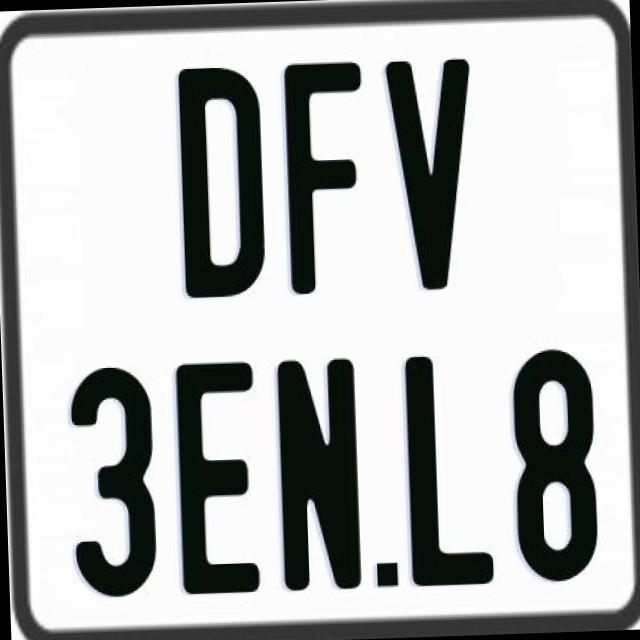3: (66, 366, 160, 598)
8: (510, 342, 601, 578)
D: (174, 65, 268, 308)
E: (174, 360, 260, 600)
F: (282, 59, 372, 297)
L: (400, 352, 492, 589)
N: (272, 357, 362, 590)
V: (381, 54, 474, 288)
